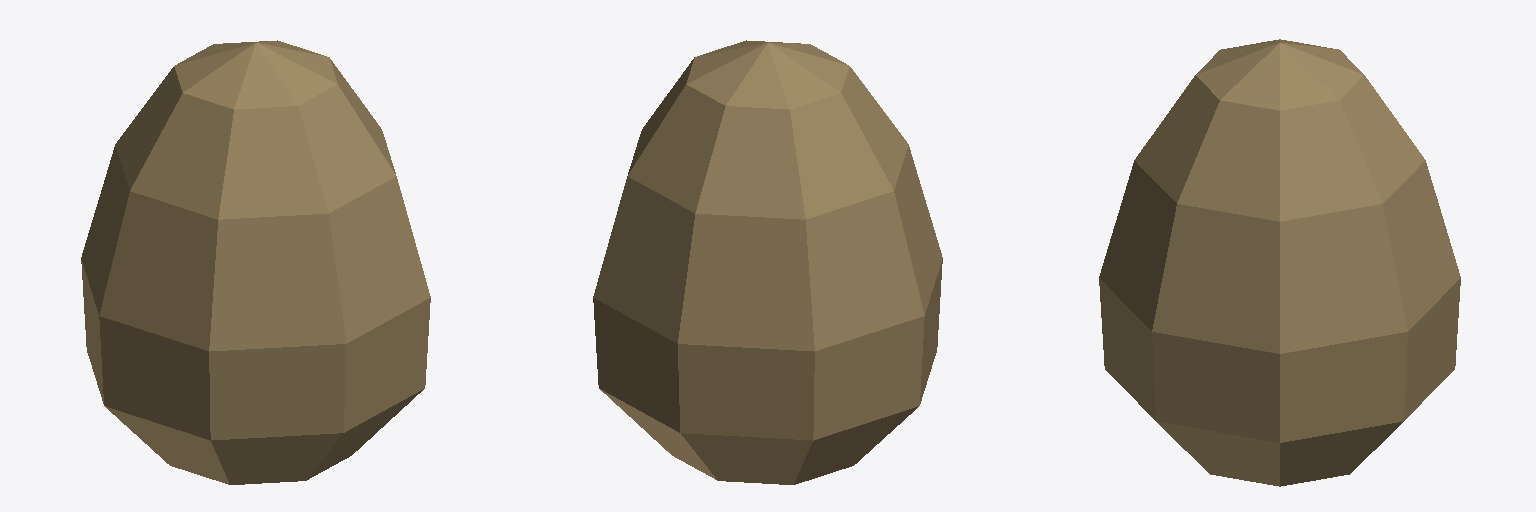
The model's file is egg.obj.
3 views of the same model, side by side, from view 1: azimuth 30°, elevation 25°; view 2: azimuth 150°, elevation 25°; view 3: azimuth 270°, elevation 25° (orthographic).
Parts seen in each view (by area): view 1: Sphere; view 2: Sphere; view 3: Sphere.
Boxes of the visible parts, x1,y1,x2,y2 form: Sphere: [81, 40, 430, 484]; Sphere: [593, 40, 942, 484]; Sphere: [1099, 39, 1460, 486].
Size of the model in its own units: 0.2 by 0.2602 by 0.2.